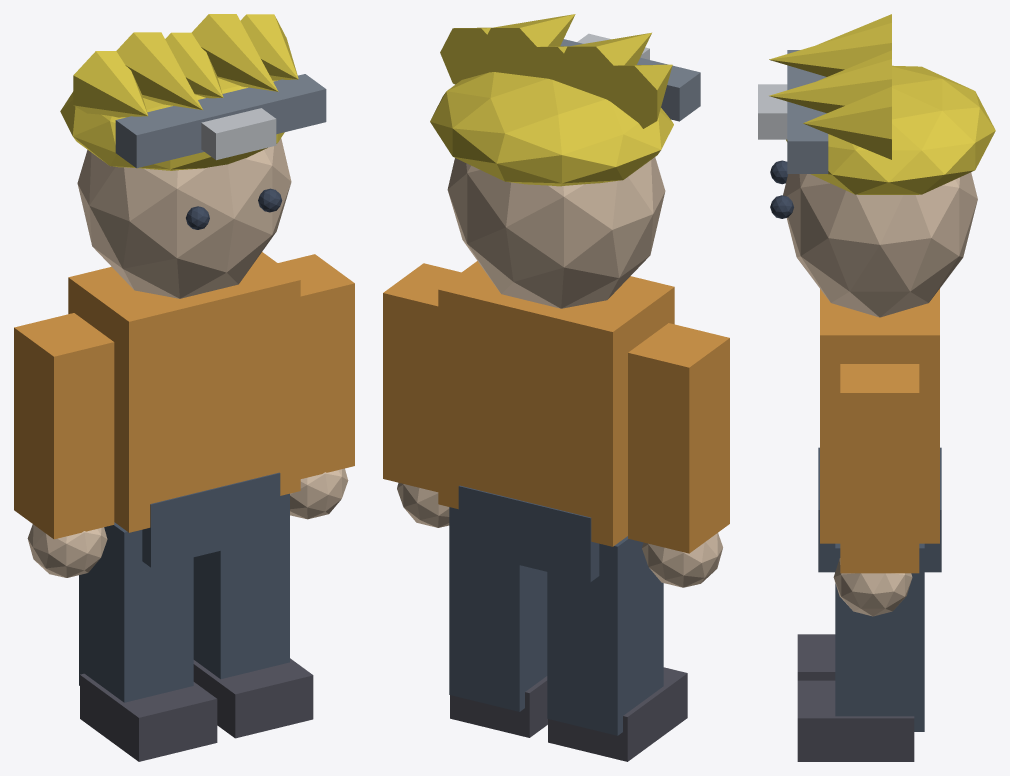
Rendered from naruto.glb.
3 views of the same model, side by side, from view 1: azimuth 30°, elevation 25°; view 2: azimuth 150°, elevation 25°; view 3: azimuth 270°, elevation 25° (orthographic). The views are drawn at different scales.
Parts seen in each view (by area): view 1: part_000, part_010, part_002, part_004, part_008, part_006, part_001, part_019, part_005, part_009, part_013, part_015 (+7 smaller); view 2: part_000, part_010, part_002, part_013, part_004, part_008, part_006, part_001, part_005, part_015, part_017, part_014 (+6 smaller); view 3: part_010, part_006, part_000, part_013, part_008, part_009, part_018, part_015, part_017, part_019, part_007, part_005 (+3 smaller).
Part boxes in pixels (<box>): part_000: <box>68,252,300,532</box>; part_010: <box>77,138,291,298</box>; part_002: <box>14,313,114,539</box>; part_004: <box>79,522,193,702</box>; part_008: <box>193,493,289,679</box>; part_006: <box>278,254,354,478</box>; part_001: <box>142,472,280,567</box>; part_019: <box>115,74,326,168</box>; part_005: <box>80,673,217,761</box>; part_009: <box>193,658,313,738</box>; part_013: <box>60,78,284,170</box>; part_015: <box>116,32,202,109</box>; part_000: <box>438,261,674,546</box>; part_010: <box>447,157,665,308</box>; part_002: <box>628,323,729,553</box>; part_013: <box>430,72,673,186</box>; part_004: <box>547,536,663,735</box>; part_008: <box>449,507,547,711</box>; part_006: <box>383,263,461,492</box>; part_001: <box>458,485,599,582</box>; part_005: <box>548,667,687,761</box>; part_015: <box>555,32,651,101</box>; part_017: <box>478,14,575,77</box>; part_014: <box>593,64,672,128</box>; part_010: <box>783,172,977,317</box>; part_006: <box>840,364,919,573</box>; part_000: <box>820,289,939,543</box>; part_013: <box>786,65,995,194</box>; part_008: <box>835,543,924,731</box>; part_009: <box>797,680,914,761</box>; part_018: <box>803,86,891,159</box>; part_015: <box>769,23,891,76</box>; part_017: <box>769,59,891,113</box>; part_019: <box>787,50,828,173</box>; part_007: <box>833,558,912,616</box>; part_005: <box>797,634,835,680</box>.
Bounding box in the file's own units: 1.03 × 2.17 × 0.6928.
